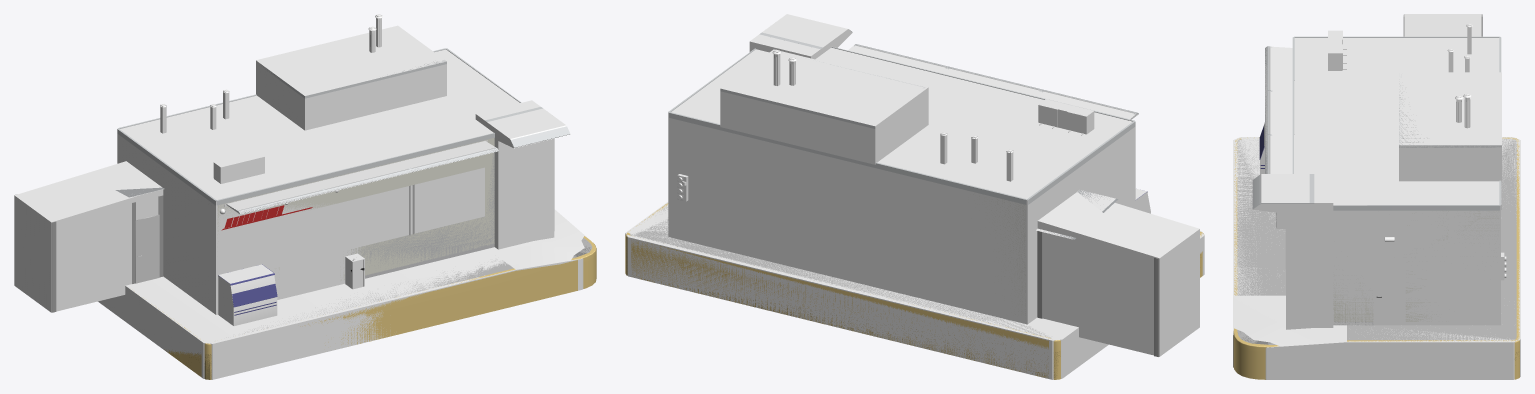
The model's file is eca_gastation_store.DAE.
3 renders of one model, left to right at view 1: azimuth 30°, elevation 25°; view 2: azimuth 150°, elevation 25°; view 3: azimuth 270°, elevation 25°, orthographic. The views are drawn at different scales.
Parts seen in each view (by area): view 1: Colmesh-1, eca_gastation_store500, eca_gastation_store60, eca_gastation_store100; view 2: Colmesh-1, eca_gastation_store500, eca_gastation_store60, eca_gastation_store100; view 3: Colmesh-1, eca_gastation_store500, eca_gastation_store60, eca_gastation_store100.
Boxes of the visible parts, <box> form: Colmesh-1: <box>14,14,589,379</box>; eca_gastation_store500: <box>15,14,596,379</box>; eca_gastation_store60: <box>115,61,590,379</box>; eca_gastation_store100: <box>118,48,594,282</box>; Colmesh-1: <box>625,14,1204,379</box>; eca_gastation_store500: <box>625,29,1203,379</box>; eca_gastation_store60: <box>626,45,1200,377</box>; eca_gastation_store100: <box>670,47,1138,199</box>; Colmesh-1: <box>1233,14,1520,379</box>; eca_gastation_store500: <box>1233,14,1519,379</box>; eca_gastation_store60: <box>1240,47,1518,360</box>; eca_gastation_store100: <box>1235,15,1500,345</box>.
Bounding box in the file's own units: 16.23 × 8.12 × 7.05.
